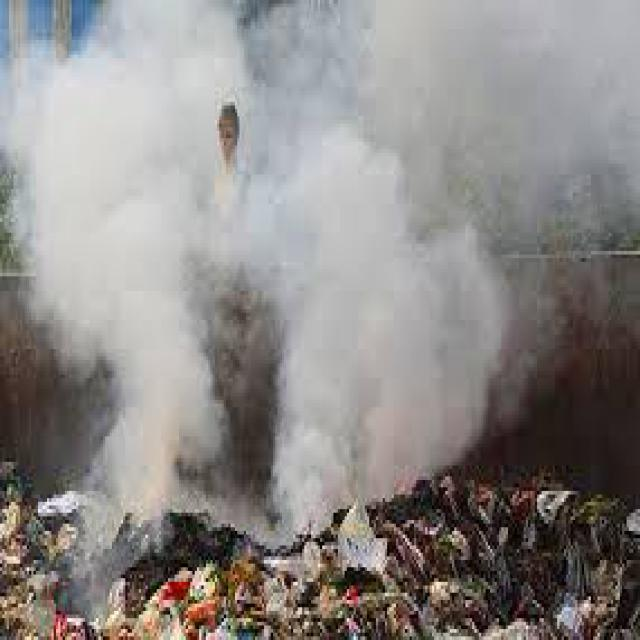smoke: (33, 4, 488, 564)
